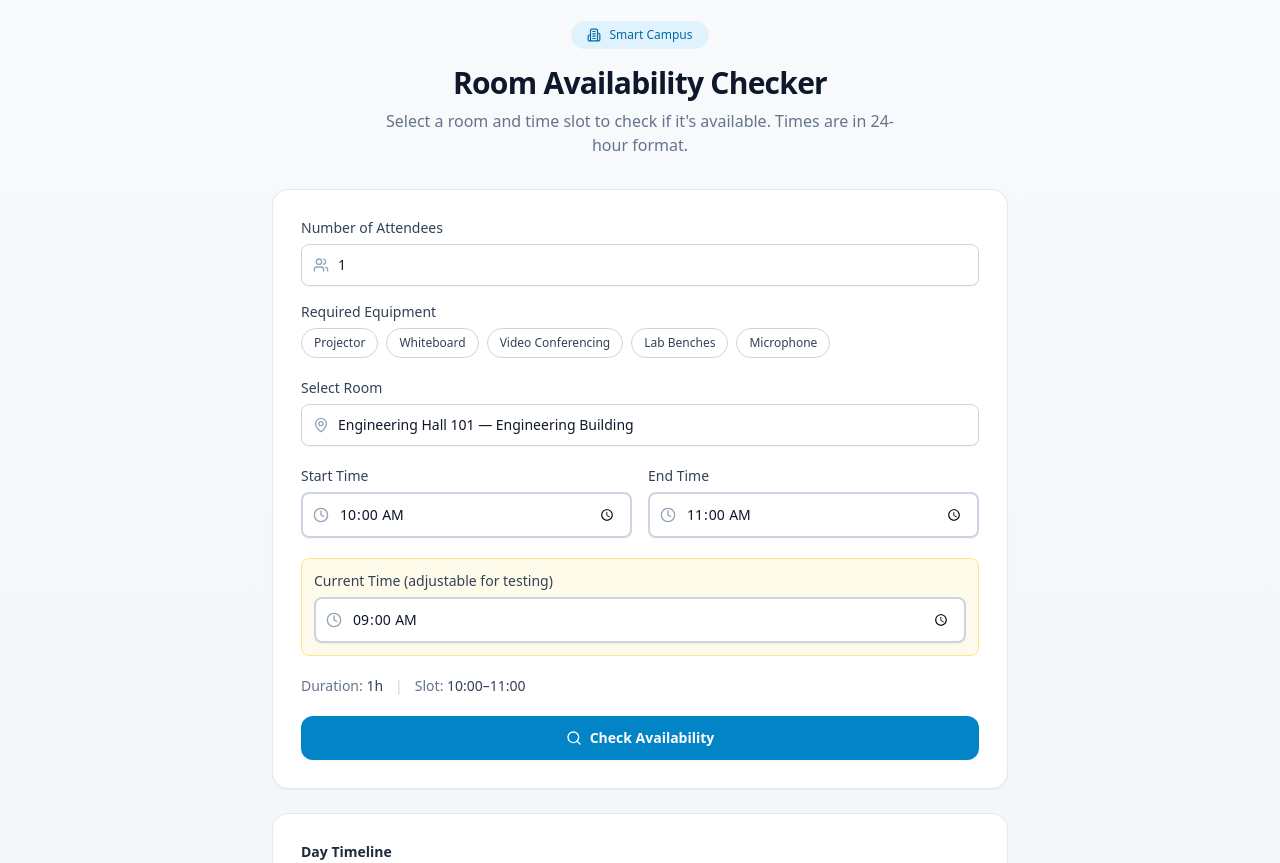
Test case: blocked rooms › reports a blocked room as unavailable even when its time slot is otherwise free
Select "Auditorium A — Arts Center (Blocked)" in the dropdown labelled "Select Room" at (640, 425), box [301,404,979,446]
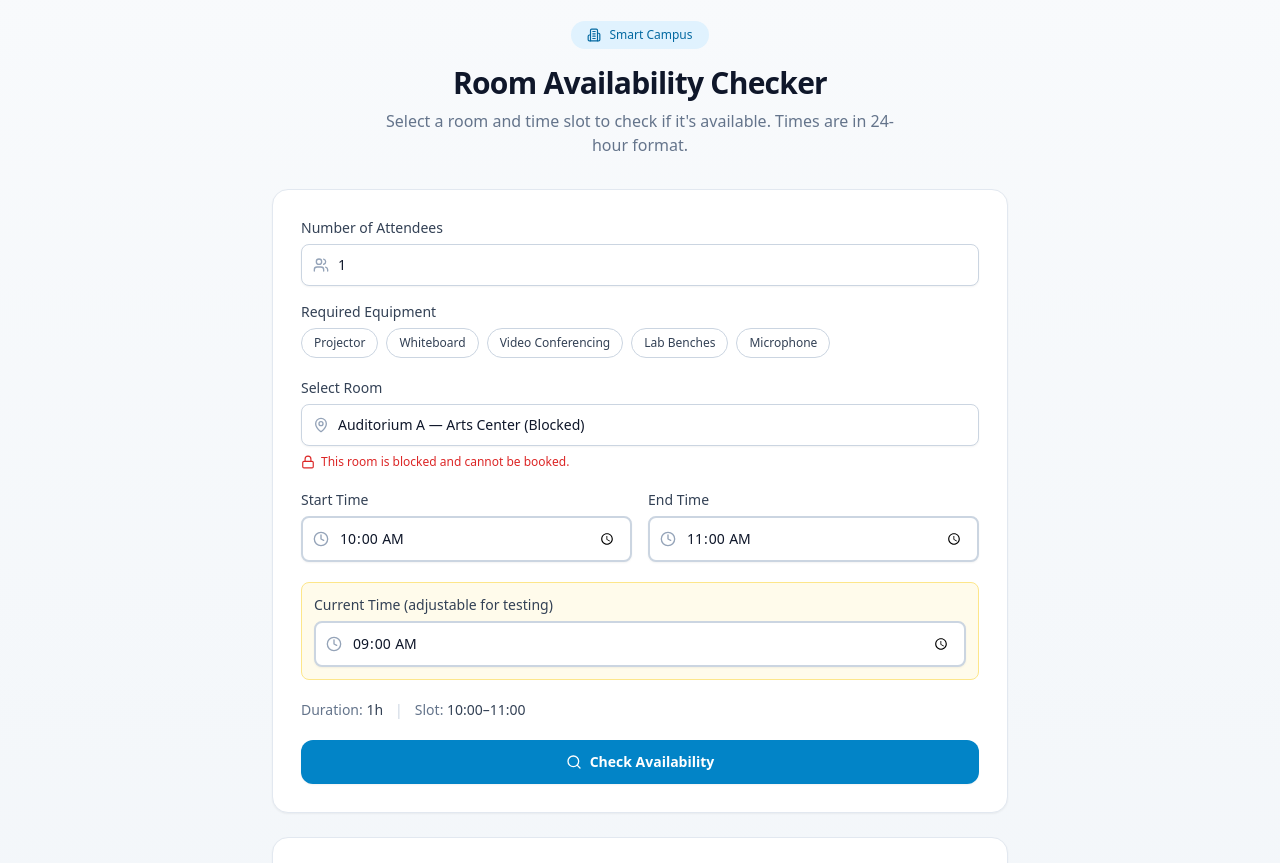
Click the button "Check Availability" at (640, 762), box [301,740,979,784]
(page scrolled)
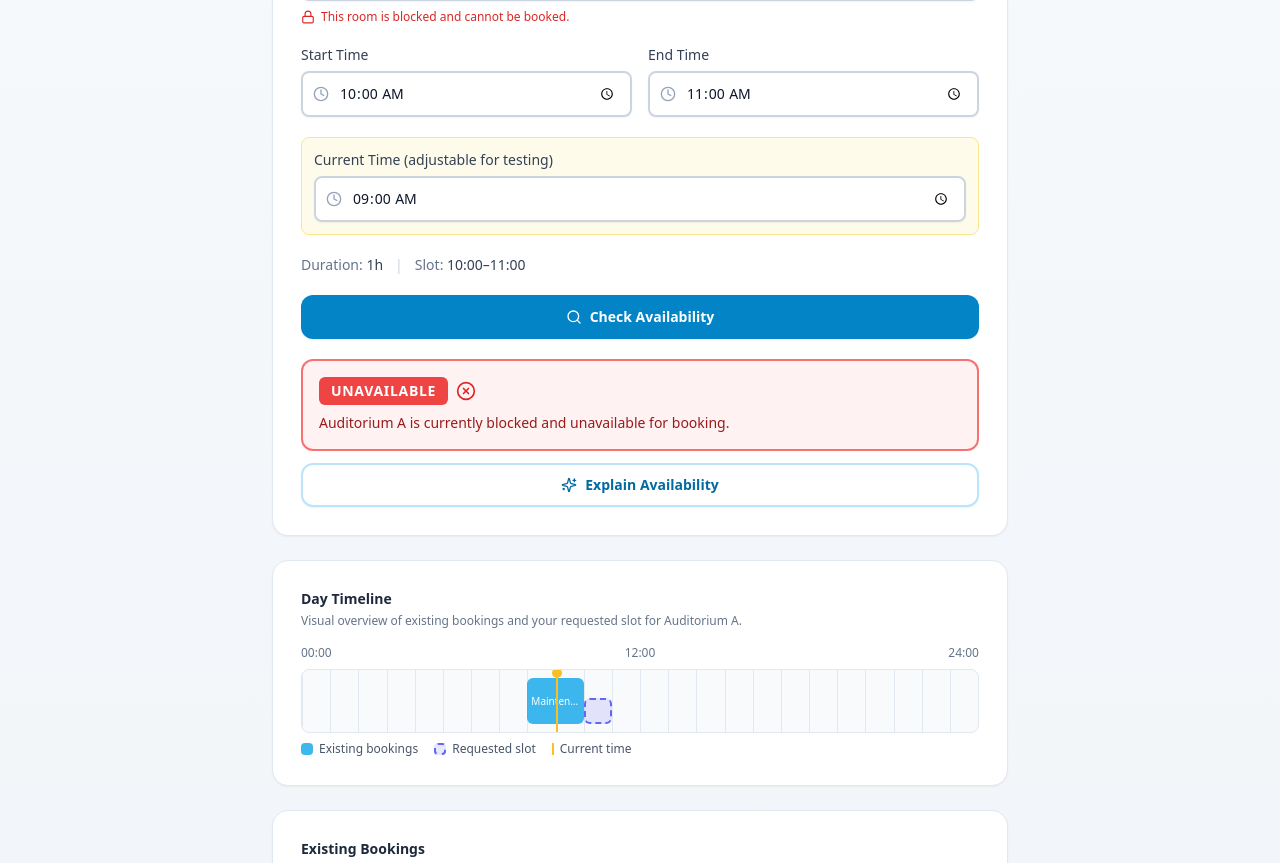
Check: the text "Unavailable" is shown, box [319,377,448,405]
Check: the text "currently blocked and unavailable" is shown, box [319,413,729,432]
